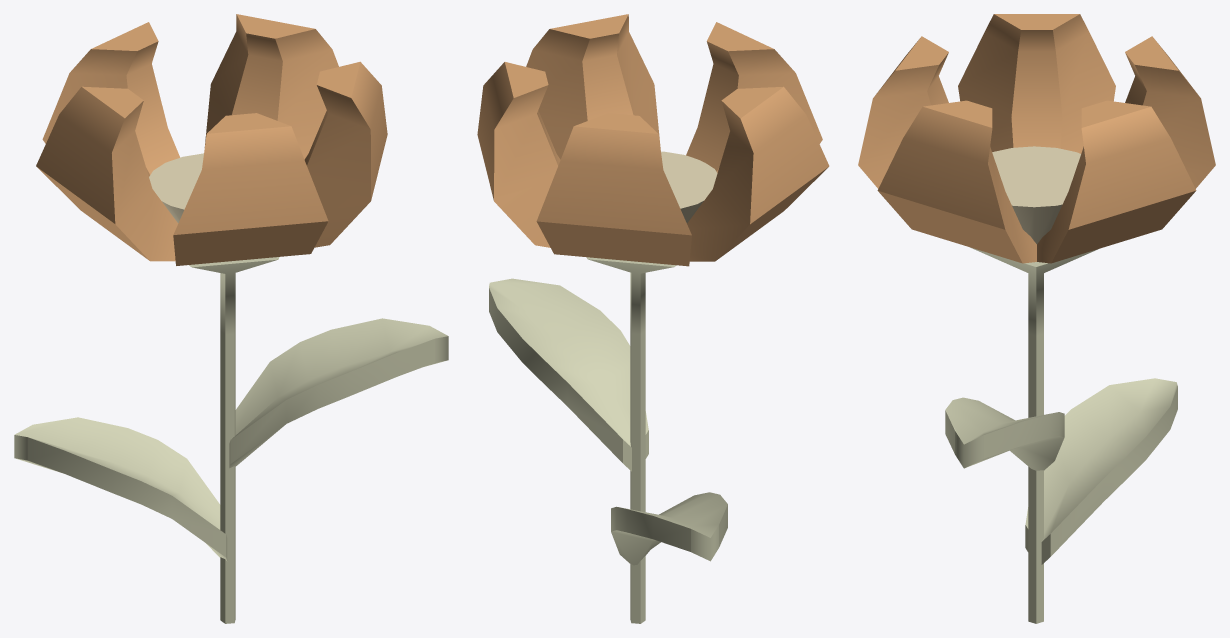
The model's file is flower02.fbx.
3 views of the same model, side by side, from view 1: azimuth 30°, elevation 25°; view 2: azimuth 150°, elevation 25°; view 3: azimuth 270°, elevation 25° (orthographic).
Parts seen in each view (by area): view 1: pPipe12, pCube6, pCube7, pPipe13, pCylinder1; view 2: pPipe12, pCube6, pCube7, pPipe13, pCylinder1; view 3: pPipe12, pCube7, pCube6, pPipe13, pCylinder1.
Boxes of the visible parts, <box> form: pPipe12: <box>36,14,387,265</box>; pCube6: <box>229,318,448,468</box>; pCube7: <box>14,417,227,560</box>; pPipe13: <box>189,257,279,623</box>; pCylinder1: <box>149,153,203,223</box>; pPipe12: <box>477,14,829,266</box>; pCube6: <box>489,278,648,471</box>; pCube7: <box>611,492,727,565</box>; pPipe13: <box>587,257,676,623</box>; pCylinder1: <box>661,151,717,223</box>; pPipe12: <box>858,14,1215,263</box>; pCube7: <box>1025,378,1177,564</box>; pCube6: <box>945,397,1064,470</box>; pPipe13: <box>970,247,1098,623</box>; pCylinder1: <box>992,146,1080,243</box>.
Bounding box in the file's own units: 6.57 × 10.23 × 6.08.
